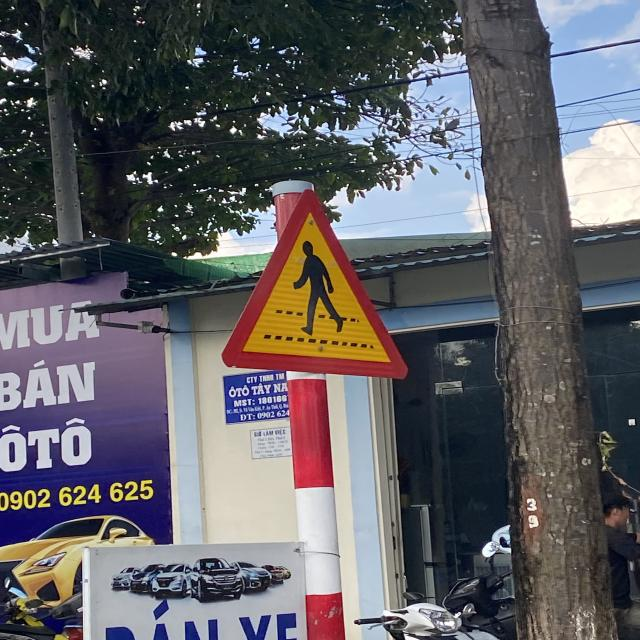Duong_Nguoi_Di_Bo_Sang_Ngang: (223, 190, 406, 378)
